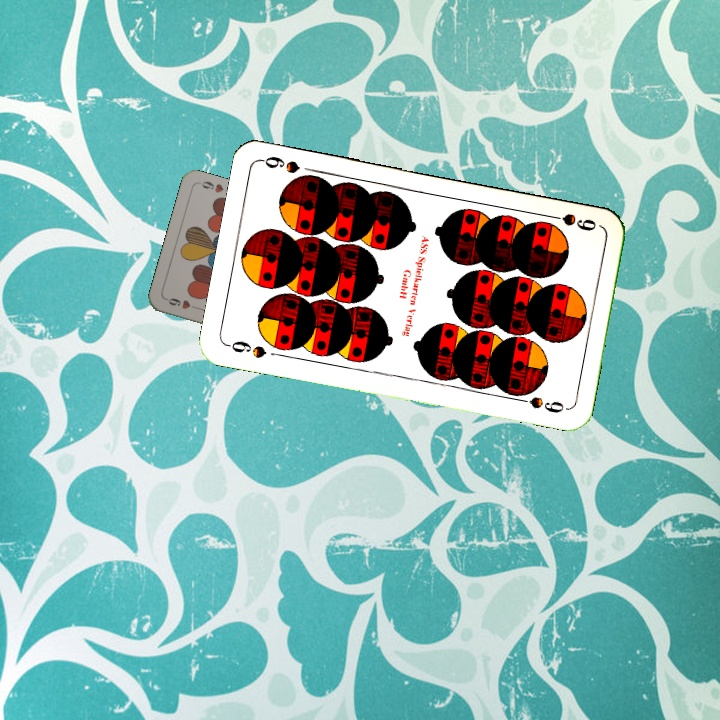H9: (162, 294, 202, 312)
S9: (542, 209, 599, 234), (223, 336, 269, 361)
